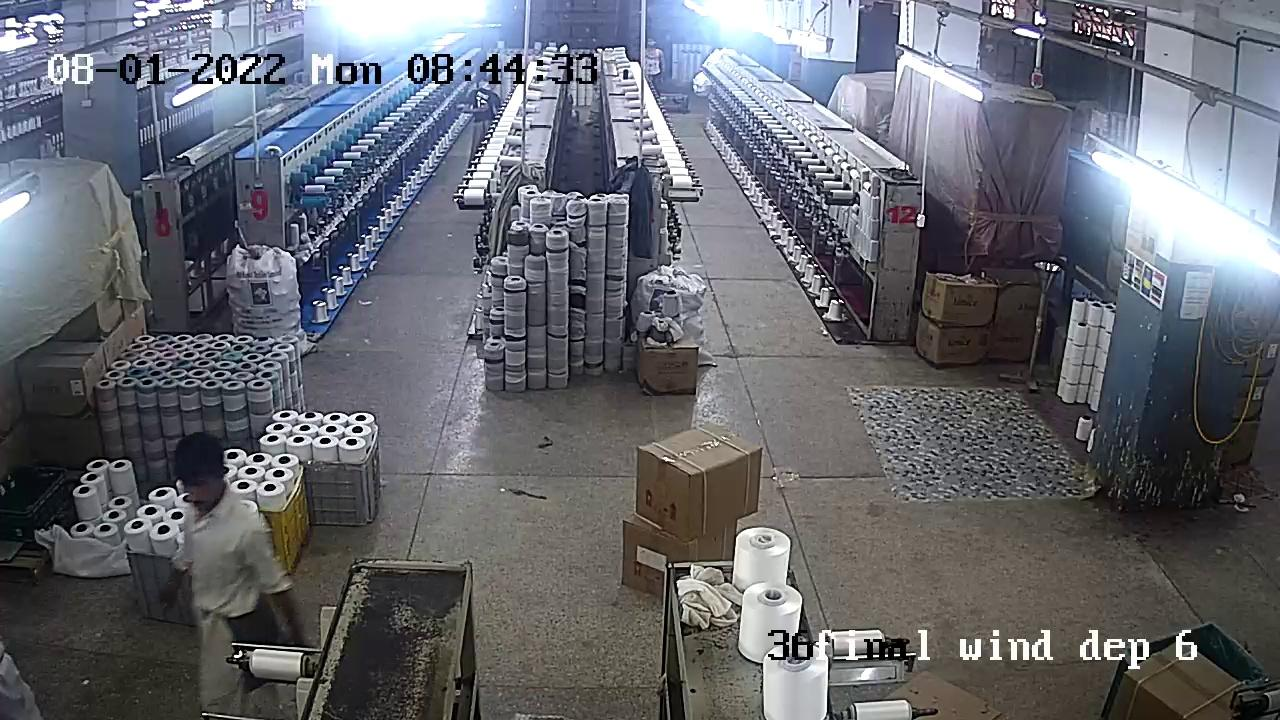person: (174, 438, 295, 685), (474, 80, 506, 158), (642, 37, 669, 97)
